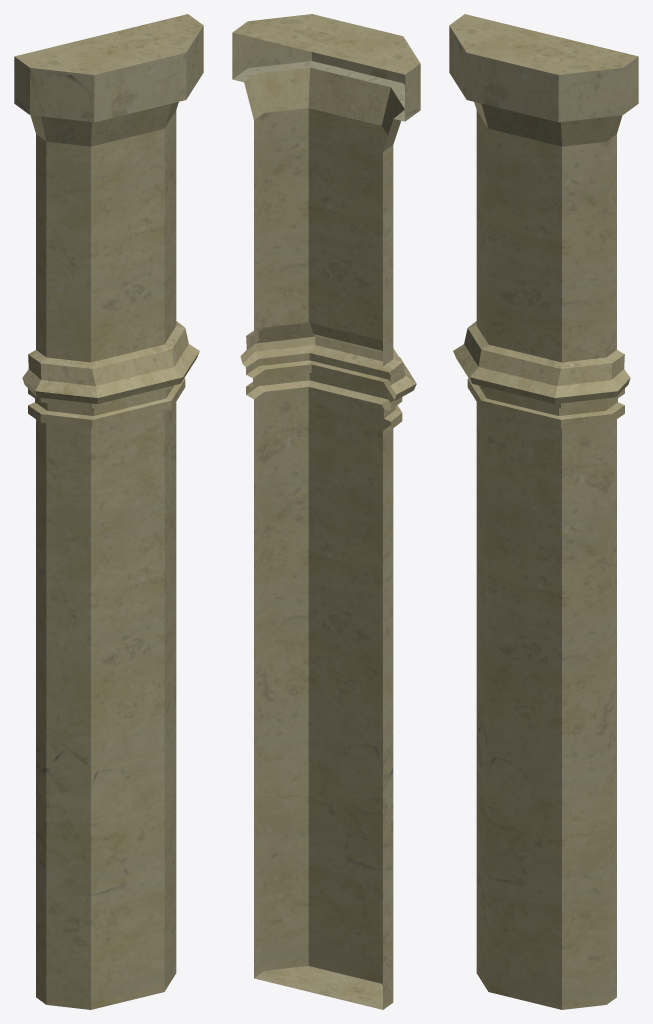
The model's file is Marble_BevelColumn_Top.gltf.
3 views of the same model, side by side, from view 1: azimuth 30°, elevation 25°; view 2: azimuth 150°, elevation 25°; view 3: azimuth 330°, elevation 25° (orthographic).
Parts seen in each view (by area): view 1: Marble_BevelColumn_Top; view 2: Marble_BevelColumn_Top; view 3: Marble_BevelColumn_Top.
Boxes of the visible parts, x1,y1,x2,y2 form: Marble_BevelColumn_Top: (14,14,203,1009); Marble_BevelColumn_Top: (232,14,420,1009); Marble_BevelColumn_Top: (449,14,638,1009).
Size of the model in its own units: 0.7688 by 4 by 0.3026.
Materials: 1 (1 with a texture image).
